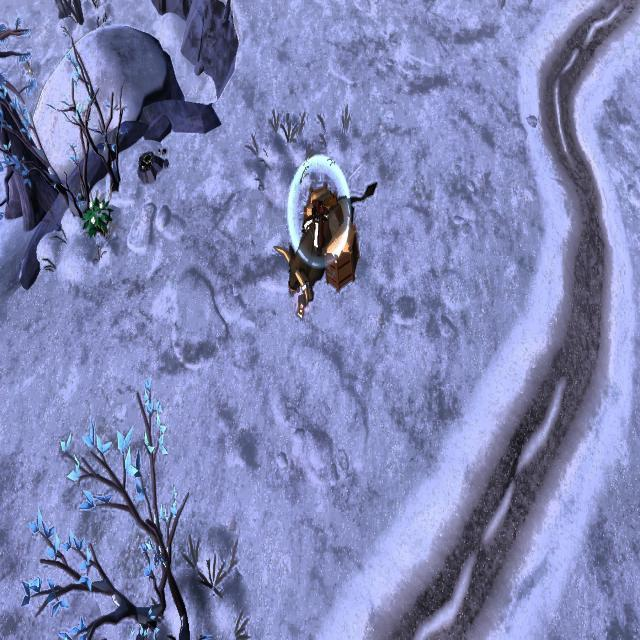fiber_t3: (83, 194, 112, 234)
